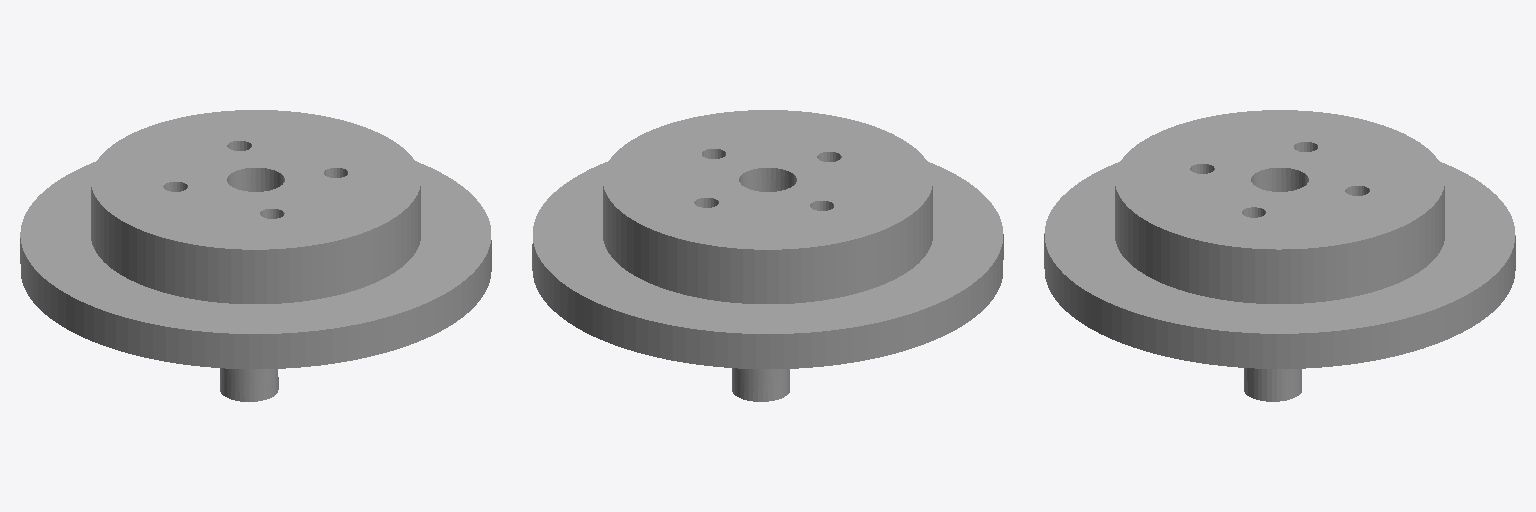
URDF robot description (ur5):
<?xml version="1.0" ?>
<!-- =================================================================================== -->
<!-- |    This document was autogenerated by xacro from ./ur_description/urdf/ur5_robot.urdf.xacro | -->
<!-- |    EDITING THIS FILE BY HAND IS NOT RECOMMENDED                                 | -->
<!-- =================================================================================== -->
<robot name="ur5" xmlns:xacro="http://ros.org/wiki/xacro">

  <link name="base_link">
    <visual>
      <geometry>
        <mesh filename="visual/Base.stl" scale="0.001 0.001 0.001"/>
      </geometry>
      <material name="LightGrey">
        <color rgba="0.7 0.7 0.7 1.0"/>
      </material>
      <origin rpy="0 3.14159 0" xyz="0.0 0.0 0.0"/>
    </visual>
    <collision>
      <geometry>
        <mesh filename="collision/Base.stl" scale="0.001 0.001 0.001"/>
      </geometry>
    </collision>
    <inertial>
      <mass value="4.0"/>
      <origin rpy="0 3.14159 0" xyz="0.0 0.0 0.0"/>
      <inertia ixx="0.00443333156" ixy="0.0" ixz="0.0" iyy="0.00443333156" iyz="0.0" izz="0.0072"/>
    </inertial>
  </link>
  <joint name="shoulder_pan_joint" type="revolute">
    <parent link="base_link"/>
    <child link="shoulder_link"/>
    <origin rpy="0.0 0.0 0.0" xyz="0.0 0.0 0.0"/>
    <axis xyz="0 0 1"/>
    <limit effort="150.0" lower="-6.28318530718" upper="6.28318530718" velocity="3.15"/>
    <dynamics damping="0.0" friction="0.0"/>
  </joint>
  <link name="shoulder_link">
    <visual>
      <geometry>
        <mesh filename="visual/shoulder.stl" scale="0.001 0.001 0.001"/>
      </geometry>
      <material name="LightGrey">
        <color rgba="0.7 0.7 0.7 1.0"/>
      </material>
      <origin rpy="0 3.14159 -0.122173" xyz="0.0 0.0 0.0"/>
    </visual>
    <collision>
      <geometry>
        <mesh filename="collision/shoulder.stl" scale="0.001 0.001 0.001"/>
      </geometry>
      <origin rpy="0 3.14159 -0.122173" xyz="0.0 0.0 0.0"/>
    </collision>
    <inertial>
      <mass value="3.7"/>
      <origin rpy="0 3.14159 -0.122173" xyz="0.0 0.0 0.0"/>
      <inertia ixx="19.85" ixy="0" ixz="0" iyy="-20.21" iyz="-0.2004" izz="-25.59"/>
    </inertial>
  </link>
  <joint name="shoulder_lift_joint" type="revolute">
    <parent link="shoulder_link"/>
    <child link="upper_arm_link"/>
    <origin rpy="0.0 0.0 0.0" xyz="0.0 -0.018 0.165361"/>
    <axis xyz="0 1 0"/>
    <limit effort="150.0" lower="-6.28318530718" upper="6.28318530718" velocity="3.15"/>
    <dynamics damping="0.0" friction="0.0"/>
  </joint>
  <link name="upper_arm_link">
    <visual>
      <geometry>
        <mesh filename="visual/upperarm.stl" scale="0.001 0.001 0.001"/>
      </geometry>
      <material name="LightGrey">
        <color rgba="0.7 0.7 0.7 1.0"/>
      </material>
      <origin rpy="1.57079 0 0" xyz="0.045912 0 0"/>
    </visual>
    <collision>
      <geometry>
        <mesh filename="collision/upperarm.stl" scale="0.001 0.001 0.001"/>
      </geometry>
      <origin rpy="1.57079 0 0" xyz="0.045912 0 0"/>
    </collision>
    <inertial>
      <mass value="8.393"/>
      <origin rpy="1.57079 0 0" xyz="0.045912 0 0"/>
      <inertia ixx="0.22689067591" ixy="0.0" ixz="0.0" iyy="0.22689067591" iyz="0.0" izz="0.0151074"/>
    </inertial>
  </link>
  <joint name="elbow_joint" type="revolute">
    <parent link="upper_arm_link"/>
    <child link="forearm_link"/>
    <origin rpy="0.0 0.0 0.0" xyz="-0.151115 0 0"/>
    <axis xyz="0 1 0"/>
    <limit effort="150.0" lower="-6.28318530718" upper="6.28318530718" velocity="3.15"/>
    <dynamics damping="0.0" friction="0.0"/>
  </joint>
  <link name="forearm_link">
    <visual>
      <geometry>
        <mesh filename="visual/forearm.stl" scale="0.001 0.001 0.001"/>
      </geometry>
      <material name="LightGrey">
        <color rgba="0.7 0.7 0.7 1.0"/>
      </material>
      <origin rpy="-1.57079 0 0" xyz="0.045912 0 0"/>
    </visual>
    <collision>
      <geometry>
        <mesh filename="collision/forearm.stl" scale="0.001 0.001 0.001"/>
      </geometry>
      <origin rpy="-1.57079 0 0" xyz="0.045912 0 0"/>
    </collision>
    <inertial>
      <mass value="2.275"/>
      <origin rpy="-1.57079 0 0" xyz="0.045912 0 0"/>
      <inertia ixx="0.049443313556" ixy="0.0" ixz="0.0" iyy="0.049443313556" iyz="0.0" izz="0.004095"/>
    </inertial>
  </link>
  <joint name="wrist_1_joint" type="revolute">
    <parent link="forearm_link"/>
    <child link="wrist_1_link"/>
    <origin rpy="0.0 0.0 0.0" xyz="-0.146082 0 0"/>
    <axis xyz="0 1 0"/>
    <limit effort="28.0" lower="-6.28318530718" upper="6.28318530718" velocity="3.2"/>
    <dynamics damping="0.0" friction="0.0"/>
  </joint>
  <link name="wrist_1_link">
    <visual>
      <geometry>
        <mesh filename="visual/wrist1.stl" scale="0.001 0.001 0.001"/>
      </geometry>
      <material name="LightGrey">
        <color rgba="0.7 0.7 0.7 1.0"/>
      </material>
      <origin rpy="1.57079 0 0" xyz="0.0995 -0.016 0.03"/>
    </visual>
    <collision>
      <geometry>
        <mesh filename="collision/wrist1.stl" scale="0.001 0.001 0.001"/>
      </geometry>
      <origin rpy="1.57079 0 0" xyz="0.0995 -0.016 0.03"/>
    </collision>
    <inertial>
      <mass value="1.219"/>
      <origin rpy="1.57079 0 0" xyz="0.0995 -0.016 0.03"/>
      <inertia ixx="0.111172755531" ixy="0.0" ixz="0.0" iyy="0.111172755531" iyz="0.0" izz="0.21942"/>
    </inertial>
  </link>
  <joint name="wrist_2_joint" type="revolute">
    <parent link="wrist_1_link"/>
    <child link="wrist_2_link"/>
    <origin rpy="0.0 0.0 0.0" xyz="0.1235 0.03 0"/>
    <axis xyz="1 0 0"/>
    <limit effort="28.0" lower="-6.28318530718" upper="6.28318530718" velocity="3.2"/>
    <dynamics damping="0.0" friction="0.0"/>
  </joint>
  <link name="wrist_2_link">
    <visual>
      <geometry>
        <mesh filename="visual/wrist2.stl" scale="0.001 0.001 0.001"/>
      </geometry>
      <material name="LightGrey">
        <color rgba="0.7 0.7 0.7 1.0"/>
      </material>
      <origin rpy="0 -1.57 0" xyz="0 0.03 0.048"/>
    </visual>
    <collision>
      <geometry>
        <mesh filename="collision/wrist2.stl" scale="0.001 0.001 0.001"/>
      </geometry>
      <origin rpy="0 -1.57 0" xyz="0 0.03 0.048"/>
    </collision>
    <inertial>
      <mass value="1.219"/>
      <origin rpy="0 -1.57 0" xyz="0 0.03 0.048"/>
      <inertia ixx="0.111172755531" ixy="0.0" ixz="0.0" iyy="0.111172755531" iyz="0.0" izz="0.21942"/>
    </inertial>
  </link>
  <joint name="wrist_3_joint" type="revolute">
    <parent link="wrist_2_link"/>
    <child link="wrist_3_link"/>
    <origin rpy="0.0 0.0 0.0" xyz="0.046 0 0.062"/>
    <axis xyz="0 0 1"/>
    <limit effort="28.0" lower="-6.28318530718" upper="6.28318530718" velocity="3.2"/>
    <dynamics damping="0.0" friction="0.0"/>
  </joint>
  <link name="wrist_3_link">
    <visual>
      <geometry>
        <mesh filename="visual/wrist3.stl" scale="0.001 0.001 0.001"/>
      </geometry>
      <material name="LightGrey">
        <color rgba="0.7 0.7 0.7 1.0"/>
      </material>
      <origin rpy="0 1.57 0" xyz="0.046 0.03 0"/>
    </visual>
    <collision>
      <geometry>
        <mesh filename="collision/wrist3.stl" scale="0.001 0.001 0.001"/>
      </geometry>
      <origin rpy="0 1.57 0" xyz="0.046 0.03 0"/>
    </collision>
    <inertial>
      <mass value="0.1879"/>
      <origin rpy="0 1.57 0" xyz="0.046 0.03 0"/>
      <inertia ixx="0.0171364731454" ixy="0.0" ixz="0.0" iyy="0.0171364731454" iyz="0.0" izz="0.033822"/>
    </inertial> 
  </link>

  <link name="ee_link">
    <collision>
      <geometry>
        <box size="0.01 0.01 0.01"/>
      </geometry>
      <origin rpy="0 0 0" xyz="-0.01 0 0"/>
    </collision>
    <inertial>
      <mass value="0"/>
      <origin rpy="0 0 0" xyz="0.0 0.0 0.0"/>
      <inertia ixx="0.0" ixy="0.0" ixz="0.0" iyy="0.0" iyz="0.0" izz="0.0"/>
    </inertial>
  </link>
 
  <link name="world"/>
  <joint name="world_joint" type="fixed">
    <parent link="world"/>
    <child link="base_link"/>
    <origin rpy="0.0 0.0 0.0" xyz="0.0 0.0 0.0"/>
  </joint>
  <joint name="ee_fixed_joint" type="fixed">
    <parent link="wrist_3_link"/>
    <child link="ee_link"/>
    <origin rpy="0.0 0.0 1.57079632679" xyz="0.0 0.0823 0.0"/>
  </joint>  
</robot>

--- Facts derived from the render (not from the file) ---
3 views of the same robot in one strip: view 1: azimuth 30°, elevation 25°; view 2: azimuth 150°, elevation 25°; view 3: azimuth 270°, elevation 25° (orthographic).
Model ur5 with 9 links and 8 joints (6 revolute, 2 fixed), rooted at world, posed every joint at zero.
Visible links, largest first — view 1: wrist_3_link; view 2: wrist_3_link; view 3: wrist_3_link.
Boxes of the visible links, x1,y1,x2,y2 form: wrist_3_link: (20, 110, 491, 401); wrist_3_link: (532, 110, 1003, 401); wrist_3_link: (1044, 110, 1515, 401).
Size in the robot's own frame: 0.057 by 0.057 by 0.02 metres.
Meshes: 7 distinct files referenced, 1 mesh visuals loaded (1 binary STL); not drawn: 6 (reference not matched to a file when rendering).